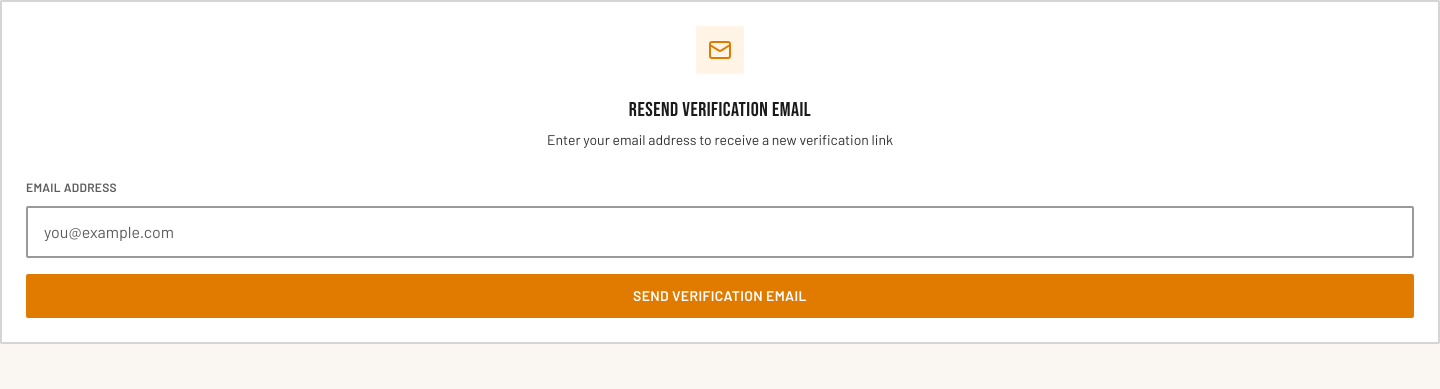
it: ResendVerificationForm › Form Validation › should show validation error for invalid email format
Type "invalid-email" into the field labelled "Email Address" at (720, 232), box [26,206,1414,258]
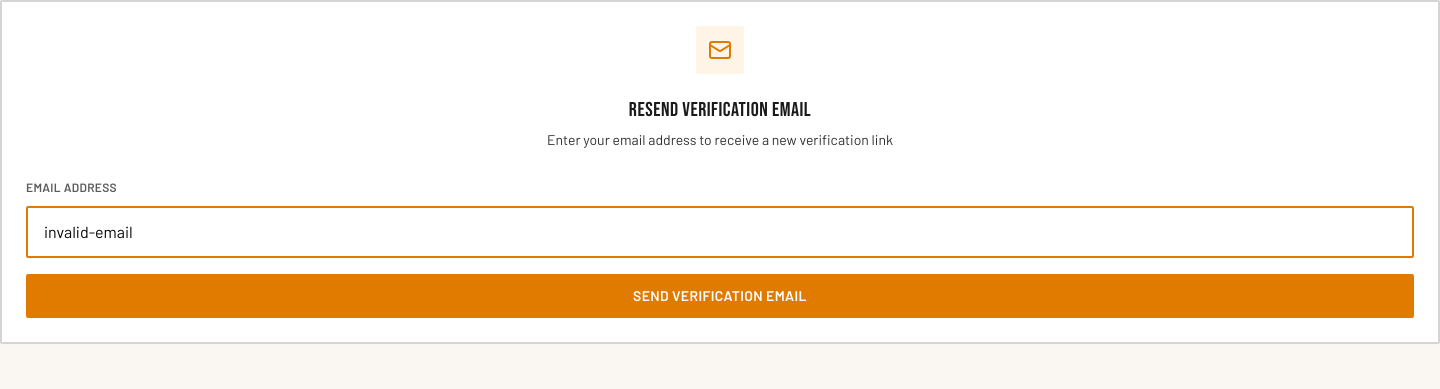
Click the button "Send verification email" at (720, 296), box [26,274,1414,318]
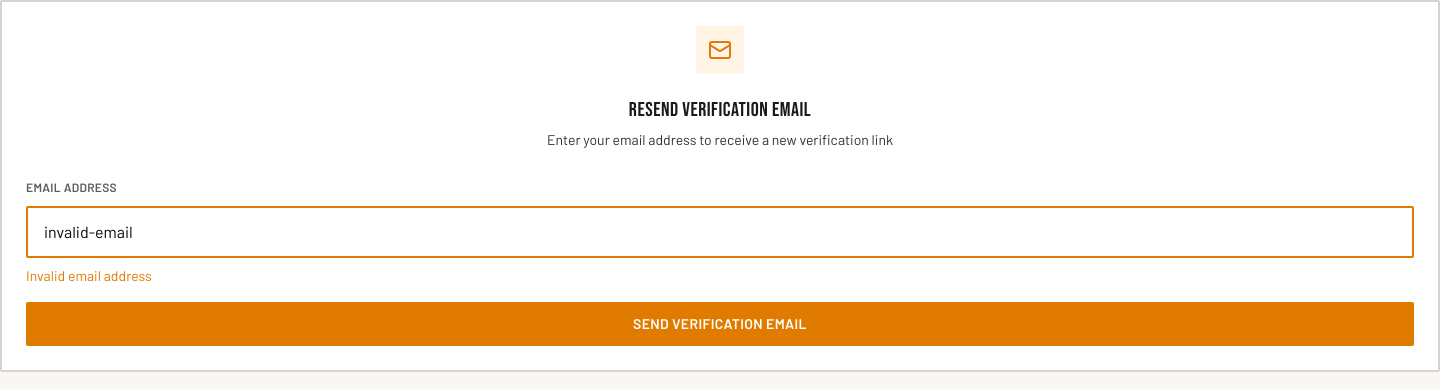
expect the text "Invalid email address" is shown: met, box [26,267,152,284]
